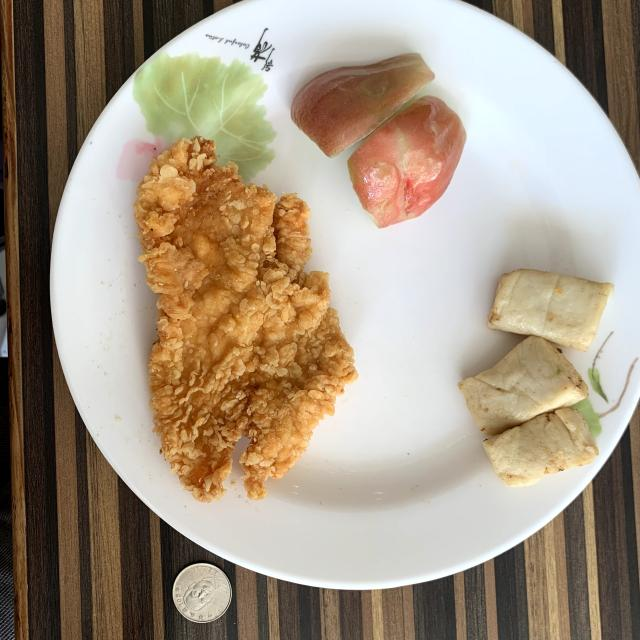coin: (172, 564, 231, 622)
creamy tofu -without sauce-: (459, 269, 614, 486)
fried chicken cutlet: (134, 136, 358, 501)
